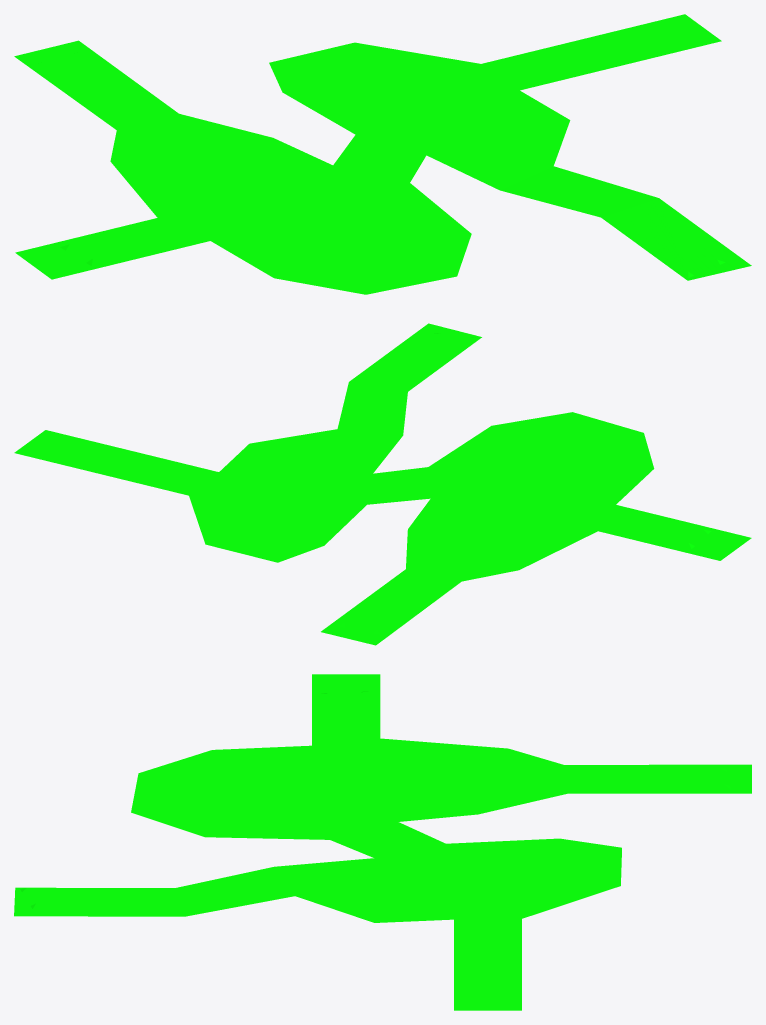
The model's file is s03b_xb2-floor.glb.
The picture shows the model from 3 angles, top to bottom: view 1: azimuth 30°, elevation 25°; view 2: azimuth 150°, elevation 25°; view 3: azimuth 270°, elevation 25°; orthographic projection. The views are drawn at different scales.
Visible parts, largest first — view 1: collision_floor-colonly; view 2: collision_floor-colonly; view 3: collision_floor-colonly.
Boxes of the visible parts, <box> form: collision_floor-colonly: <box>14,14,751,294</box>; collision_floor-colonly: <box>14,323,751,645</box>; collision_floor-colonly: <box>14,674,751,1010</box>.
Size of the model in its own units: 70.18 by 0.4688 by 65.04.
